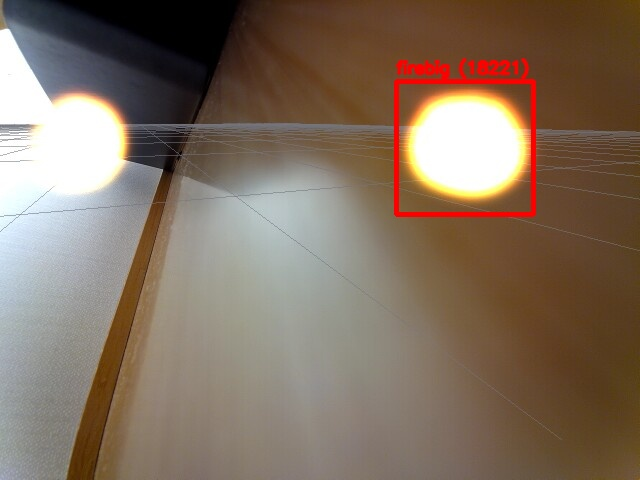firebig: (396, 81, 533, 214)
